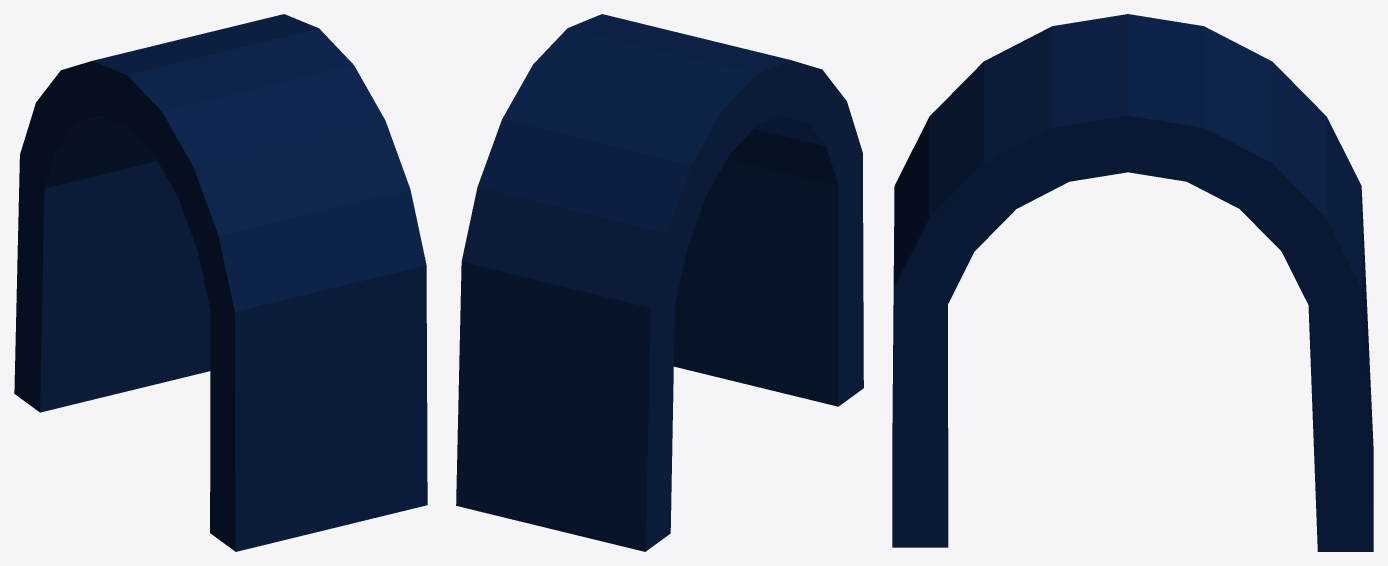
Rendered from ArcheBoule.fbx.
3 renders of one model, left to right at view 1: azimuth 30°, elevation 25°; view 2: azimuth 150°, elevation 25°; view 3: azimuth 270°, elevation 25°, orthographic. The views are drawn at different scales.
Visible parts, largest first — view 1: Ball_Door; view 2: Ball_Door; view 3: Ball_Door.
Part boxes in pixels (box(x1,y1,x2,y2)): Ball_Door: box(14, 14, 427, 551); Ball_Door: box(456, 14, 863, 551); Ball_Door: box(892, 14, 1373, 551).
Bounding box in the file's own units: 100 × 200 × 200.
